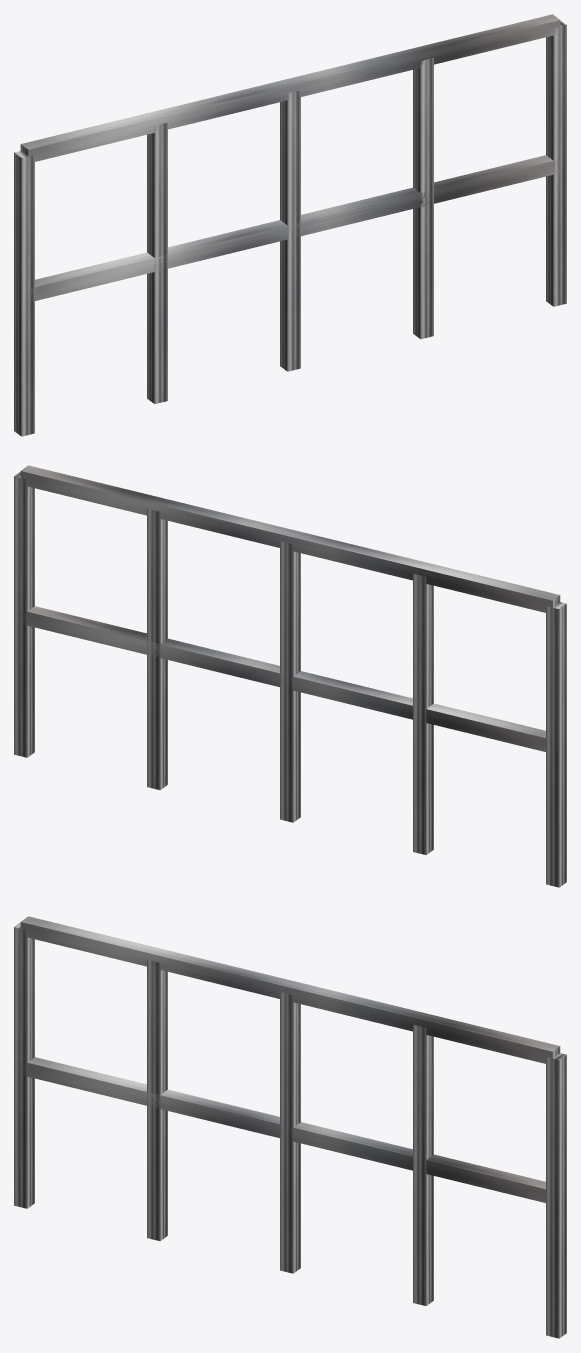
File: barandal.gltf
3 renders of one model, top to bottom at view 1: azimuth 30°, elevation 25°; view 2: azimuth 150°, elevation 25°; view 3: azimuth 330°, elevation 25°, orthographic.
Visible parts, largest first — view 1: barandal; view 2: barandal; view 3: barandal.
Part boxes in pixels (x1,y1,x2,y2): barandal: (14,14,566,436); barandal: (14,465,566,887); barandal: (14,916,566,1338).
Bounding box in the file's own units: 2.05 × 1.03 × 0.05.
Materials: 7 (7 with a texture image).
